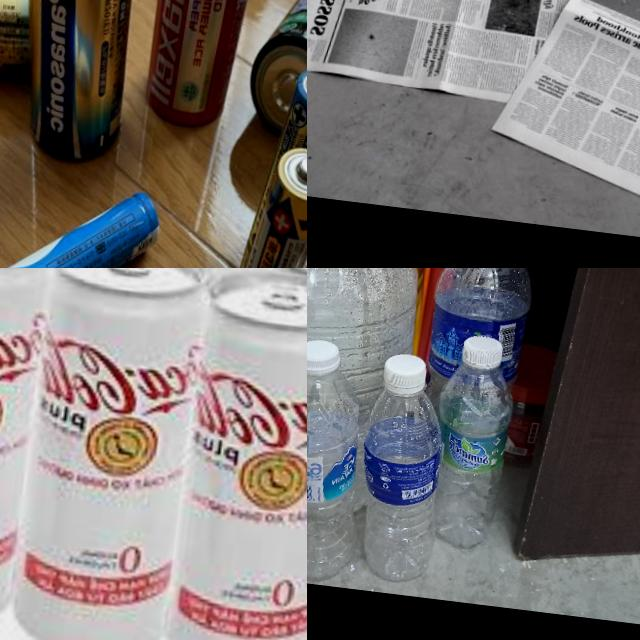aba de lata: (260, 281, 305, 313), (108, 268, 151, 275)
bateria: (0, 0, 152, 169), (134, 0, 269, 137), (0, 170, 166, 268), (243, 63, 307, 266), (221, 140, 307, 268), (242, 0, 307, 149), (0, 0, 50, 89)
garrafa plástica: (307, 268, 428, 520), (412, 268, 540, 451), (421, 359, 521, 549), (354, 383, 446, 582), (307, 364, 362, 579)
lata: (2, 268, 224, 640), (157, 268, 307, 640), (224, 268, 307, 640), (0, 268, 67, 640)
papel: (307, 0, 640, 245)
tampa plástica: (379, 352, 429, 399), (461, 328, 506, 376), (307, 331, 347, 376)
